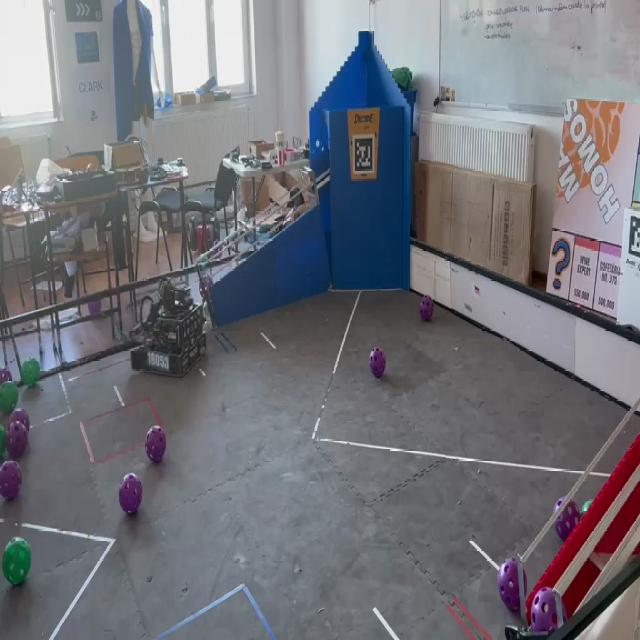artifact_green: (2, 537, 31, 585), (0, 382, 18, 414), (21, 358, 40, 387), (580, 499, 593, 517), (0, 367, 12, 383), (0, 426, 5, 457), (197, 256, 208, 265)
artifact_purple: (531, 587, 558, 633), (498, 558, 520, 612), (554, 498, 579, 542), (119, 474, 142, 514), (0, 461, 21, 500), (6, 421, 28, 458), (145, 426, 166, 463), (370, 347, 385, 378), (9, 408, 29, 431), (200, 275, 213, 302), (420, 296, 433, 321), (88, 299, 101, 315), (0, 368, 12, 384)
